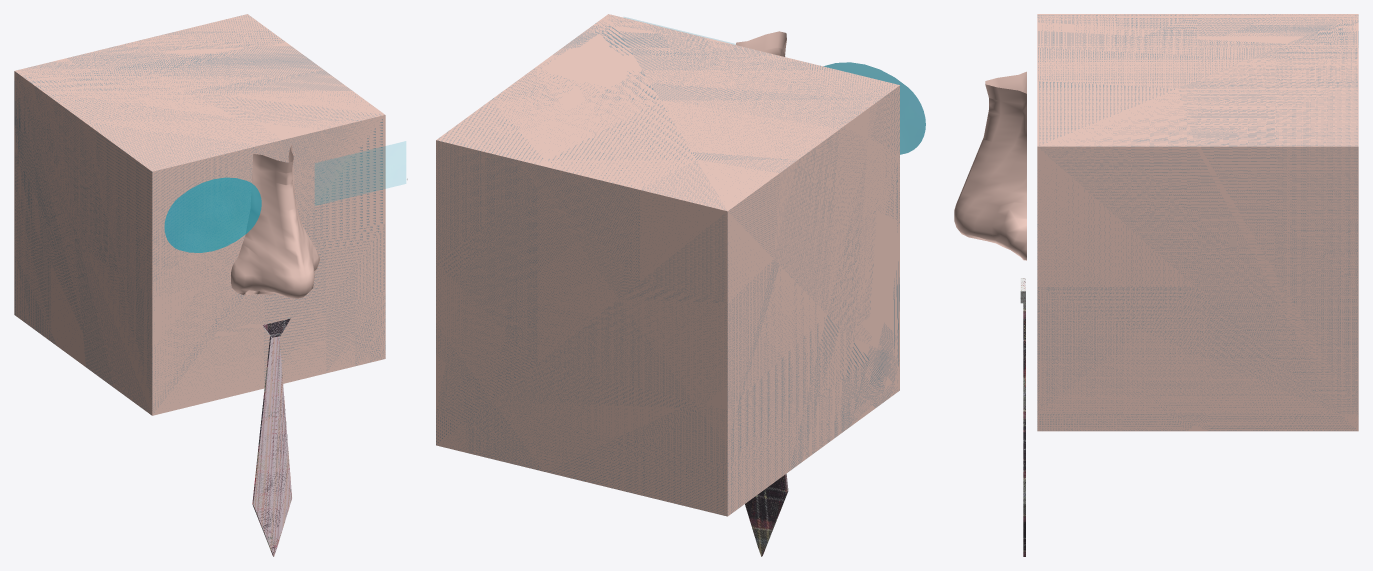
File: internstan.dae
The picture shows the model from 3 angles, left to right: view 1: azimuth 30°, elevation 25°; view 2: azimuth 150°, elevation 25°; view 3: azimuth 270°, elevation 25°; orthographic projection. The views are drawn at different scales.
Parts seen in each view (by area): view 1: SketchUp (×4), group_0; view 2: SketchUp (×3), group_0; view 3: SketchUp (×2), group_0.
Part boxes in pixels (x1,y1,x2,y2): SketchUp (×4): [14, 14, 405, 415]; group_0: [253, 336, 291, 556]; SketchUp (×3): [436, 14, 925, 516]; group_0: [745, 475, 788, 556]; SketchUp (×2): [954, 14, 1358, 431]; group_0: [1023, 303, 1025, 556].
Bounding box in the file's own units: 36.67 × 45.32 × 58.97.
Materials: 9 (4 with a texture image).
